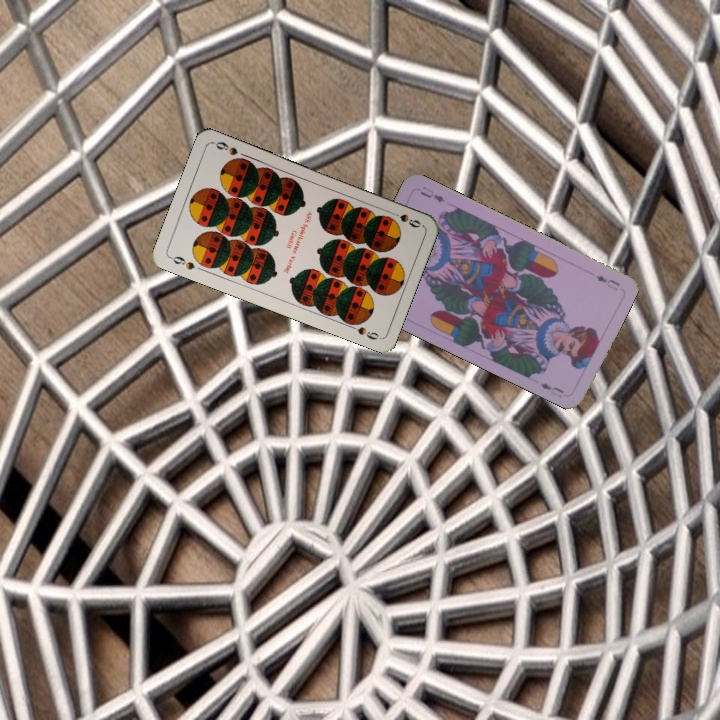EU: (592, 271, 623, 293)
S9: (385, 207, 423, 230), (166, 252, 197, 272)
